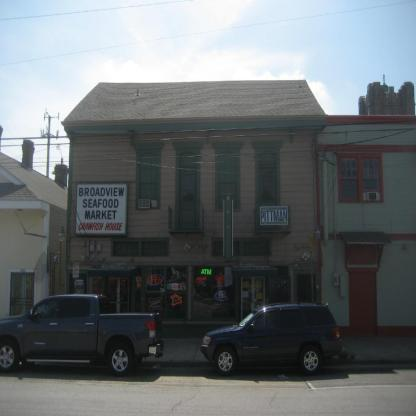Car: (2, 297, 166, 391), (201, 302, 342, 380)
